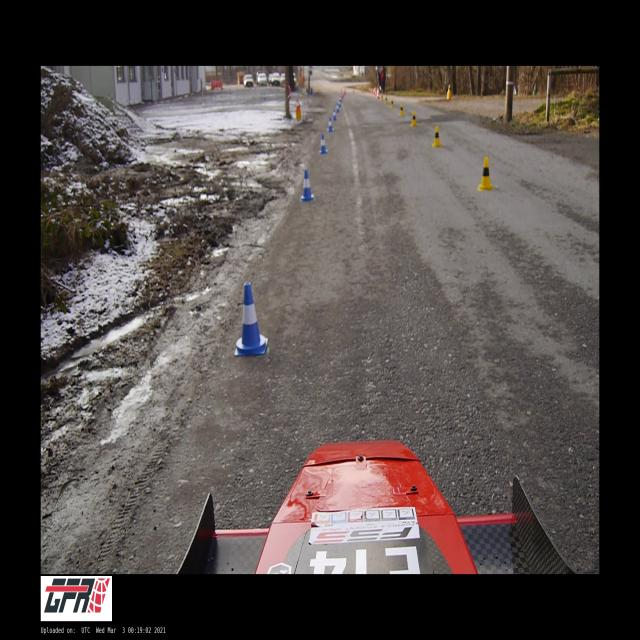blue_cone: (235, 282, 268, 356), (300, 170, 314, 201), (319, 134, 328, 154), (328, 116, 333, 132), (332, 108, 337, 120), (336, 104, 339, 112)
large_orange_cone: (376, 88, 380, 99)
orange_cone: (296, 100, 300, 110)
yellow_cone: (478, 157, 494, 190), (432, 125, 442, 146), (411, 111, 417, 126), (399, 104, 404, 115), (390, 98, 394, 107), (448, 84, 452, 92), (385, 96, 388, 104), (381, 94, 384, 100)
